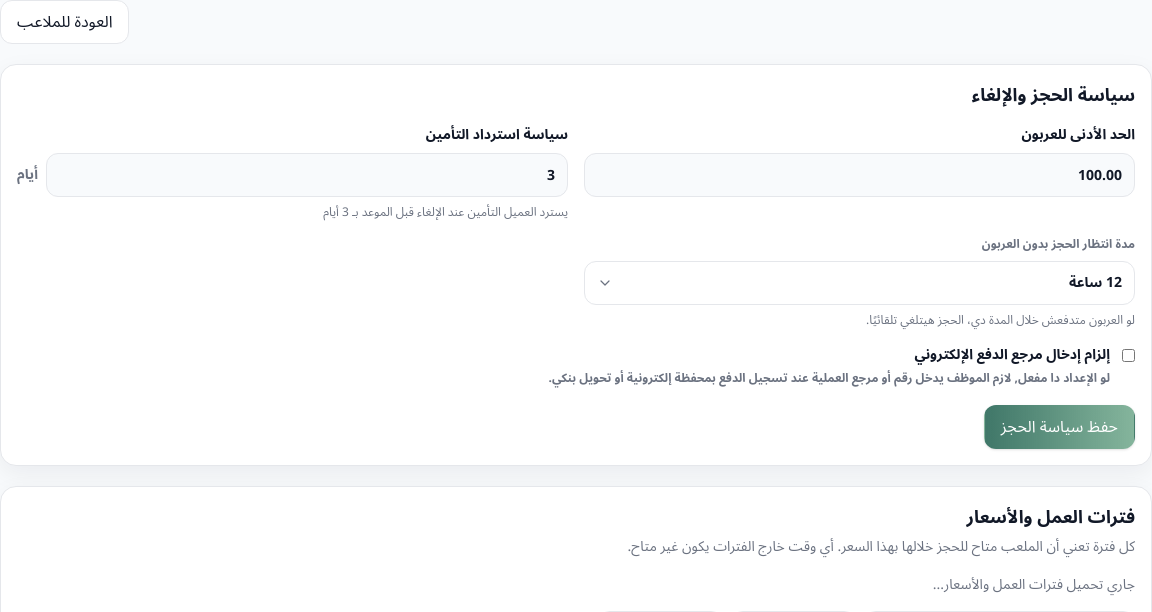
SettingsCourtDetailsPage › allows owner to edit hold expiry and digital payment reference and saves policy
The image size is (1152, 612).
Expected: the heading "سياسة الحجز والإلغاء" is shown, [972,76,1135,114]
Note: Hold expiry dropdown
Click the button "12 ساعة" at (1087, 282), box [584,261,1135,305]
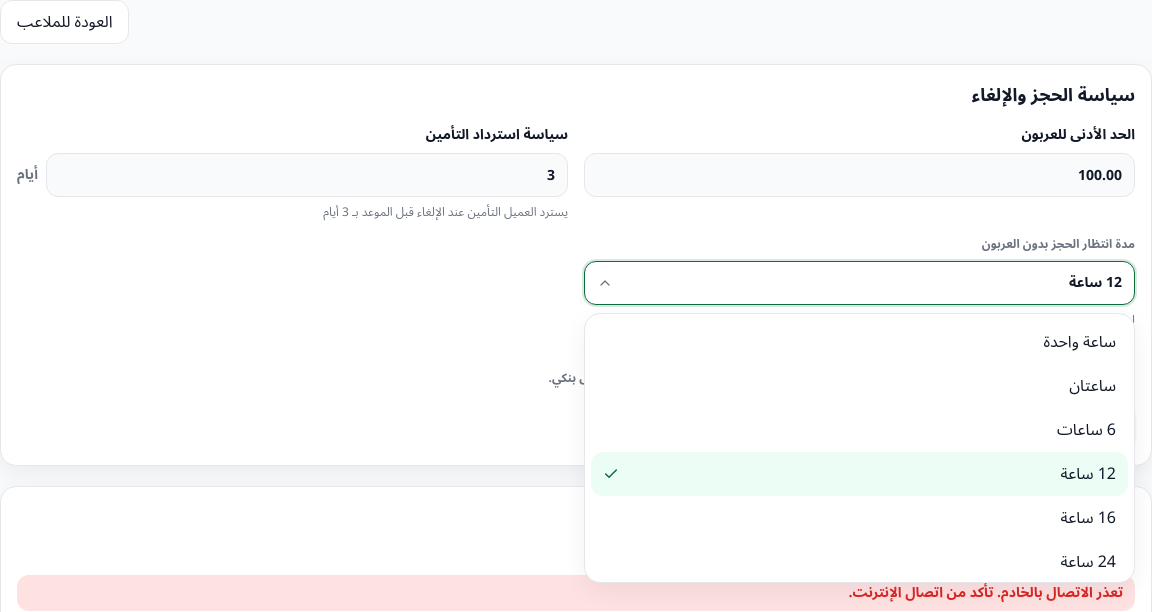
Click the option "24 ساعة" at (1079, 562), box [591,540,1128,584]
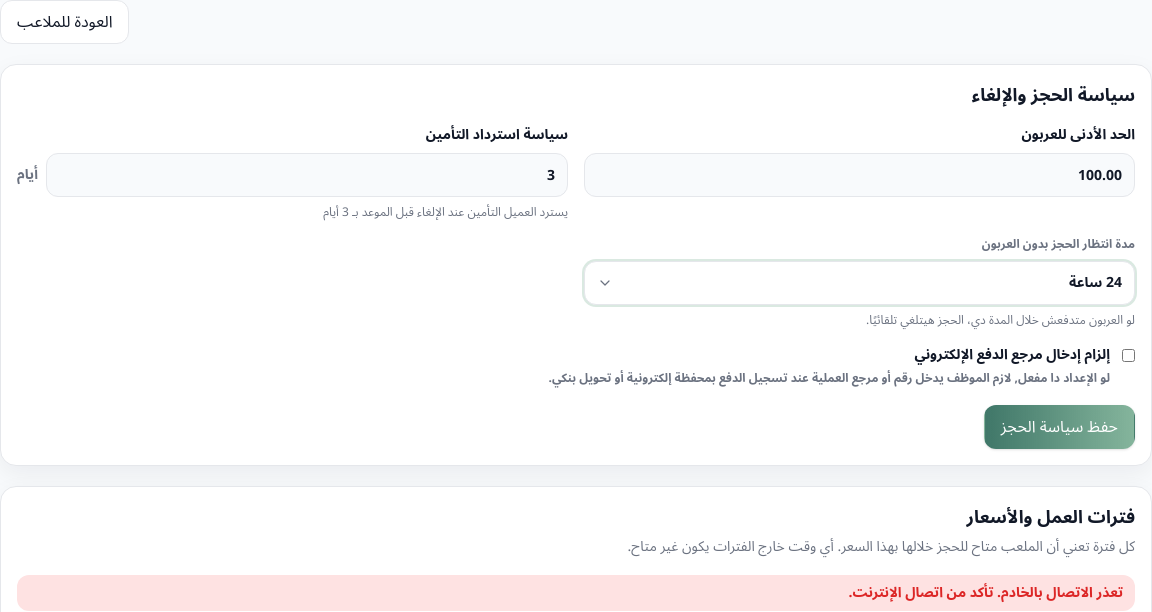
Click the checkbox at (1128, 356), box [1122,349,1135,362]
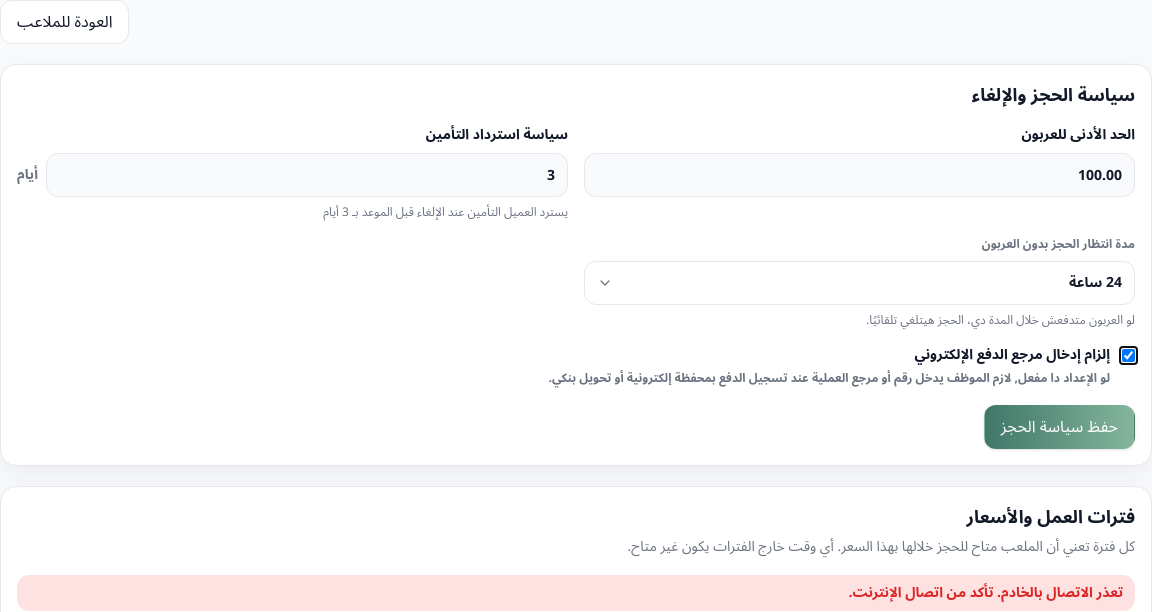
Expected: the checkbox is checked, [1122,349,1135,362]
Click the button "حفظ سياسة الحجز" at (1059, 427), box [984,405,1135,449]
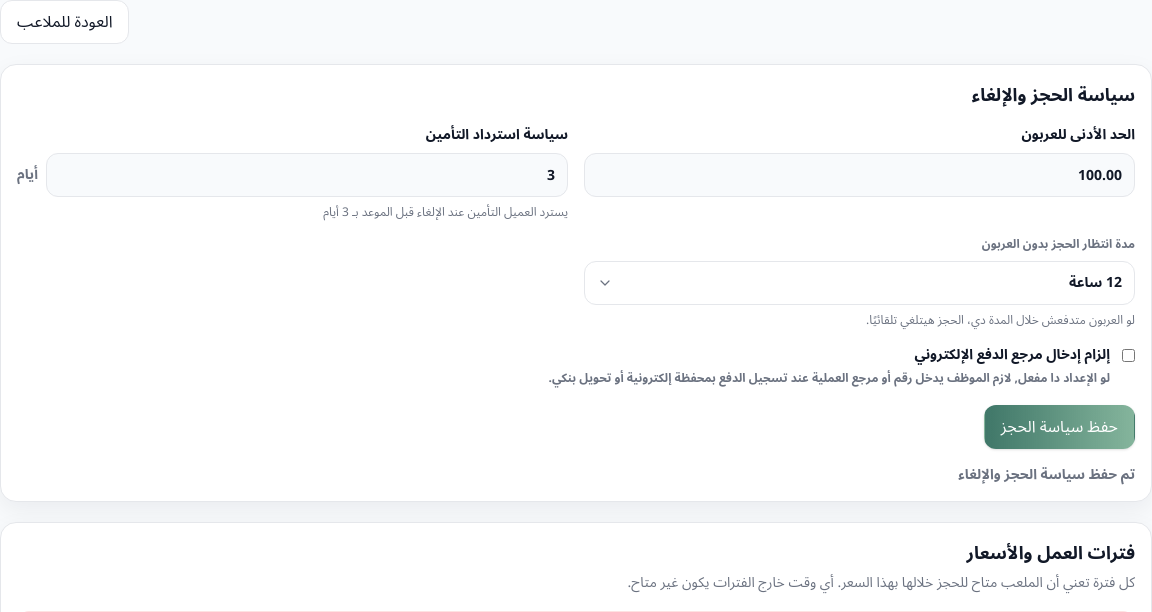
Expected: the text "تم حفظ سياسة الحجز والإلغاء" is shown, [958,460,1135,489]
